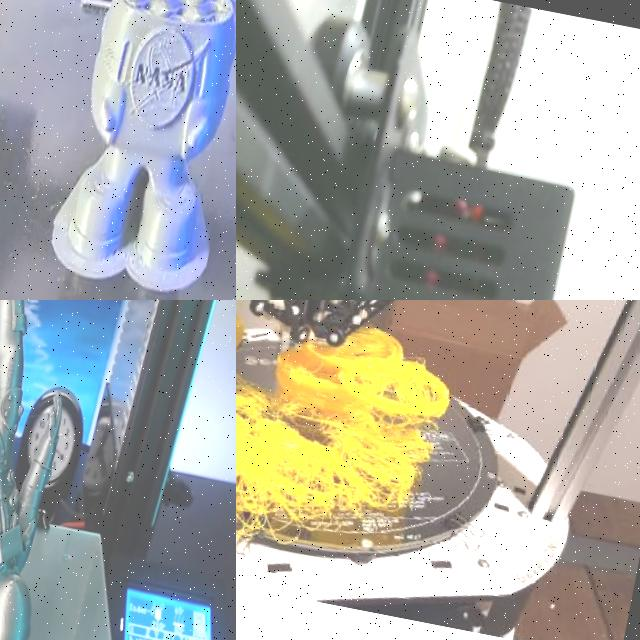spaghetti: (236, 376, 481, 566)
